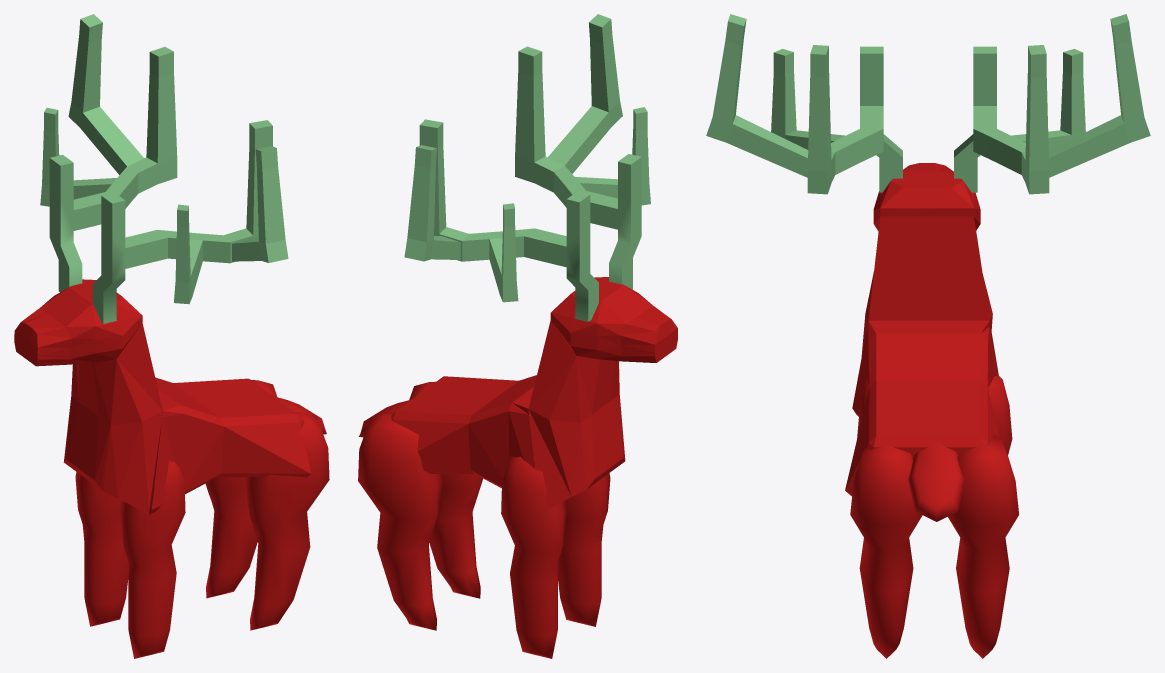
The model's file is M_red_Deer.FBX.
The picture shows the model from 3 angles, left to right: view 1: azimuth 30°, elevation 25°; view 2: azimuth 150°, elevation 25°; view 3: azimuth 270°, elevation 25°; orthographic projection. The views are drawn at different scales.
Visible parts, largest first — view 1: Box055, Box072, Box065, Box069, Box063, Box070, Box071; view 2: Box055, Box065, Box072, Box071, Box070, Box063, Box069; view 3: Box055, Box072, Box065, Box069, Box071, Box073, Box070.
Part boxes in pixels (box(x1,y1,x2,y2)): Box055: box(14, 279, 312, 514); Box072: box(40, 14, 177, 292); Box065: box(92, 120, 288, 323); Box069: box(243, 412, 329, 630); Box063: box(119, 461, 185, 658); Box070: box(75, 472, 128, 626); Box071: box(205, 380, 277, 598); Box055: box(391, 277, 677, 509); Box065: box(515, 14, 650, 289); Box072: box(404, 119, 598, 321); Box071: box(358, 413, 443, 630); Box070: box(501, 456, 566, 658); Box063: box(558, 473, 610, 626); Box069: box(409, 381, 482, 598); Box055: box(845, 163, 998, 495); Box072: box(954, 14, 1150, 194); Box065: box(706, 14, 902, 194); Box069: box(850, 444, 922, 658); Box071: box(948, 434, 1019, 658); Box073: box(908, 442, 964, 521); Box070: box(988, 375, 1012, 454).
Bounding box in the file's own units: 210 × 362 × 244.
